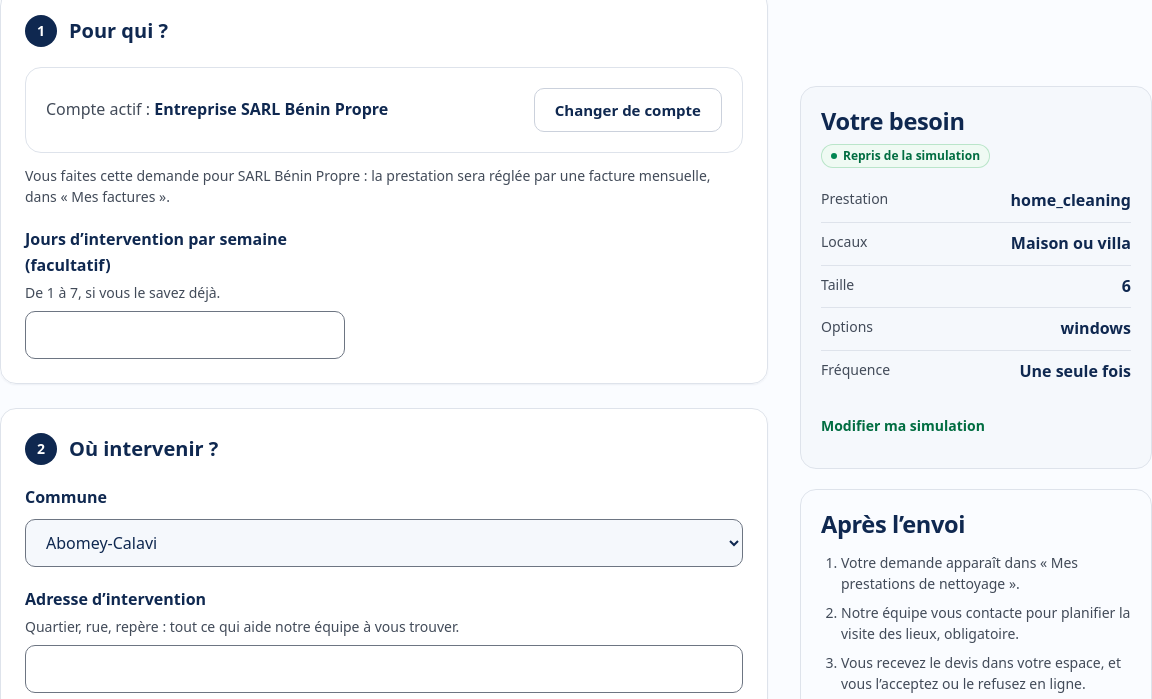
Scenario: demande de devis › entreprise active : jours d’intervention, agents souhaités, refus hors zone de la gateway
The image size is (1152, 699).
Expected: the text "Entreprise SARL Bénin Propre" is shown, [154, 98, 388, 120]
Expected: the text "pour SARL Bénin Propre : la prestation sera réglée par une facture mensuelle" is shown, [25, 166, 711, 206]
Type "5" into the field labelled "Jours d’intervention par semaine (facultatif)".
click(185, 335); type("5")  # box [25, 311, 345, 359]
(page scrolled)
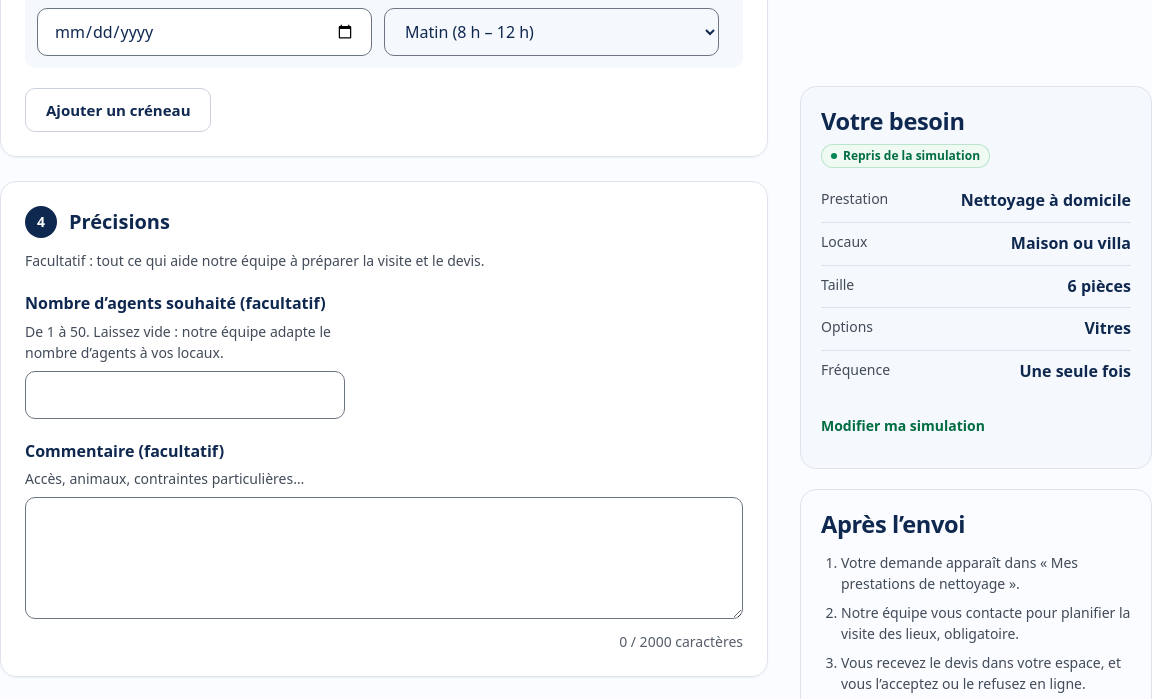
Type "3" into the field labelled "Nombre d’agents souhaité (facultatif)".
click(185, 395); type("3")  # box [25, 371, 345, 419]
(page scrolled)
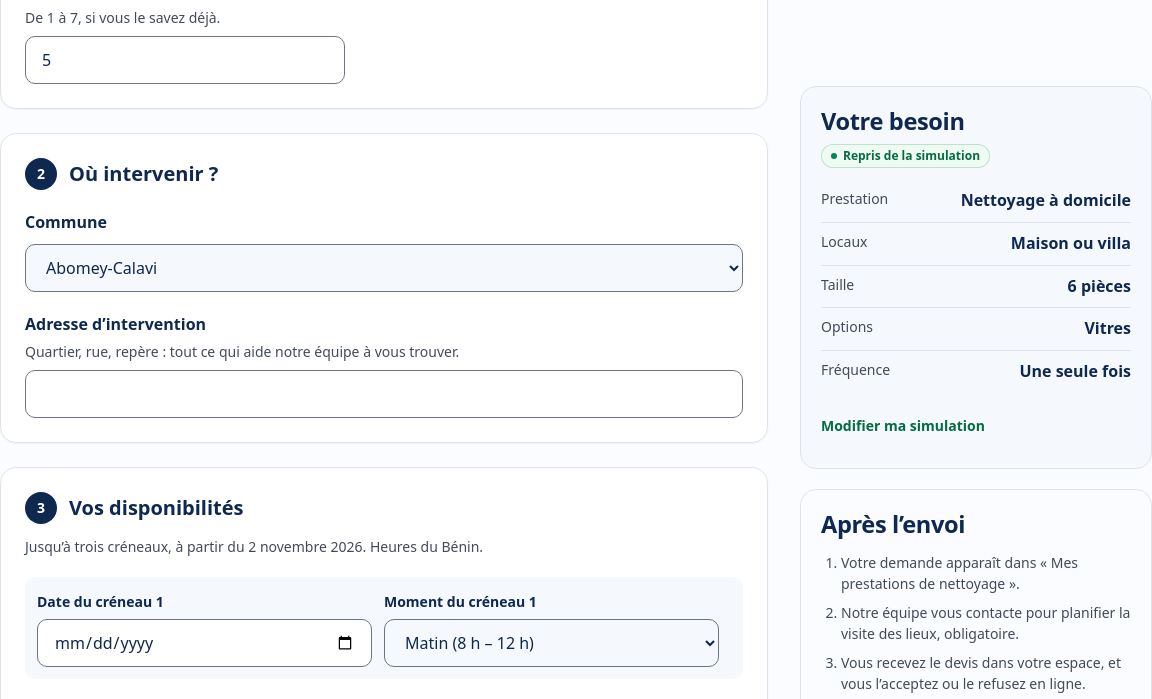
Type "Lot 12, Zogbadjè" into the field labelled "Adresse d’intervention".
click(384, 394); type("Lot 12, Zogbadjè")  # box [25, 370, 743, 418]
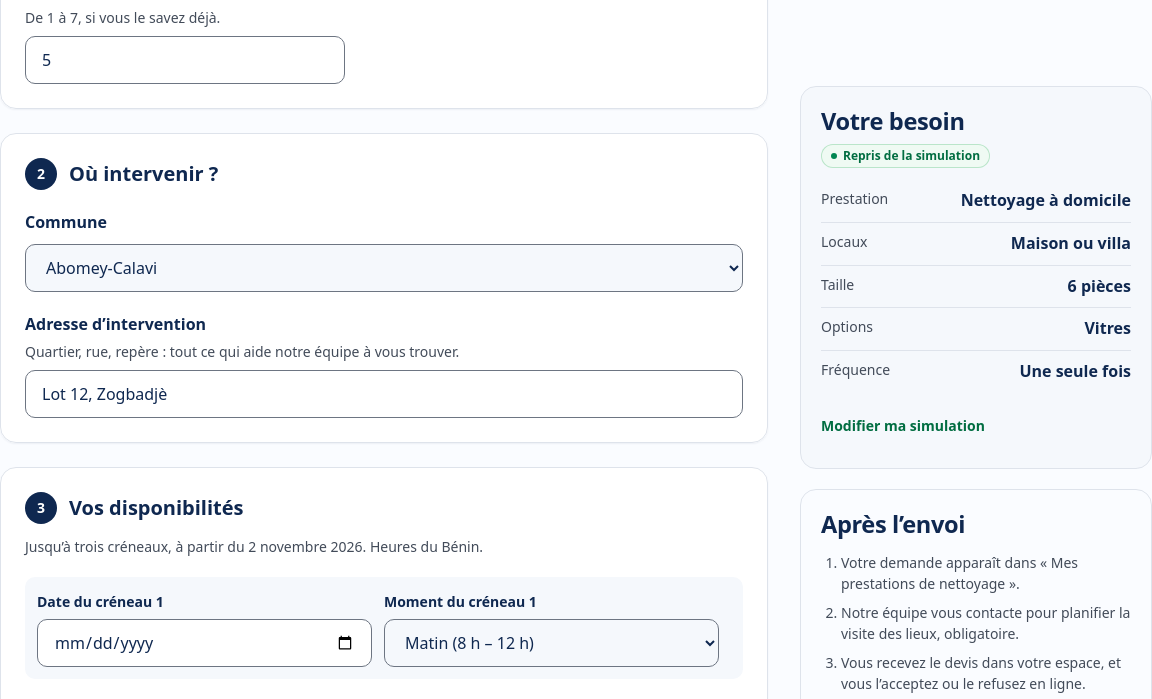
Type "2099-11-05" into the date field labelled "Date du créneau 1".
click(204, 643); type("2099-11-05")  # box [37, 619, 372, 667]
(page scrolled)
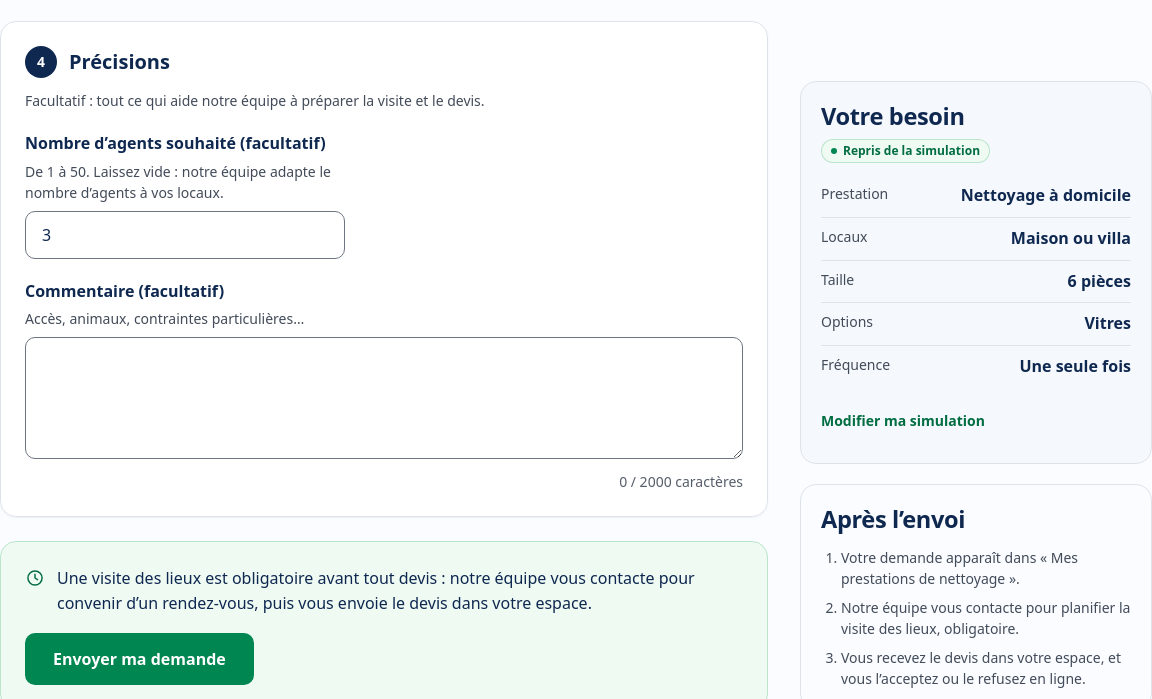
Click the button "Envoyer ma demande".
click(139, 659)  # box [25, 633, 254, 685]
(page scrolled)
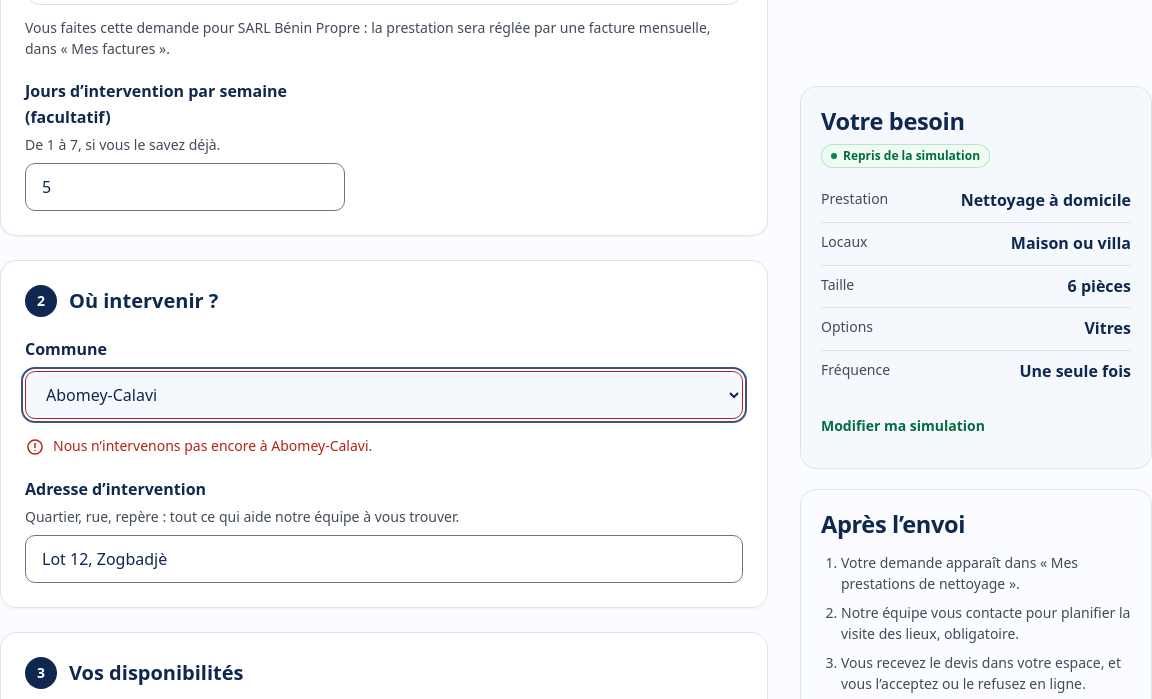
Expected: the text "Nous n’intervenons pas encore à Abomey-Calavi." is shown, [53, 435, 372, 456]
